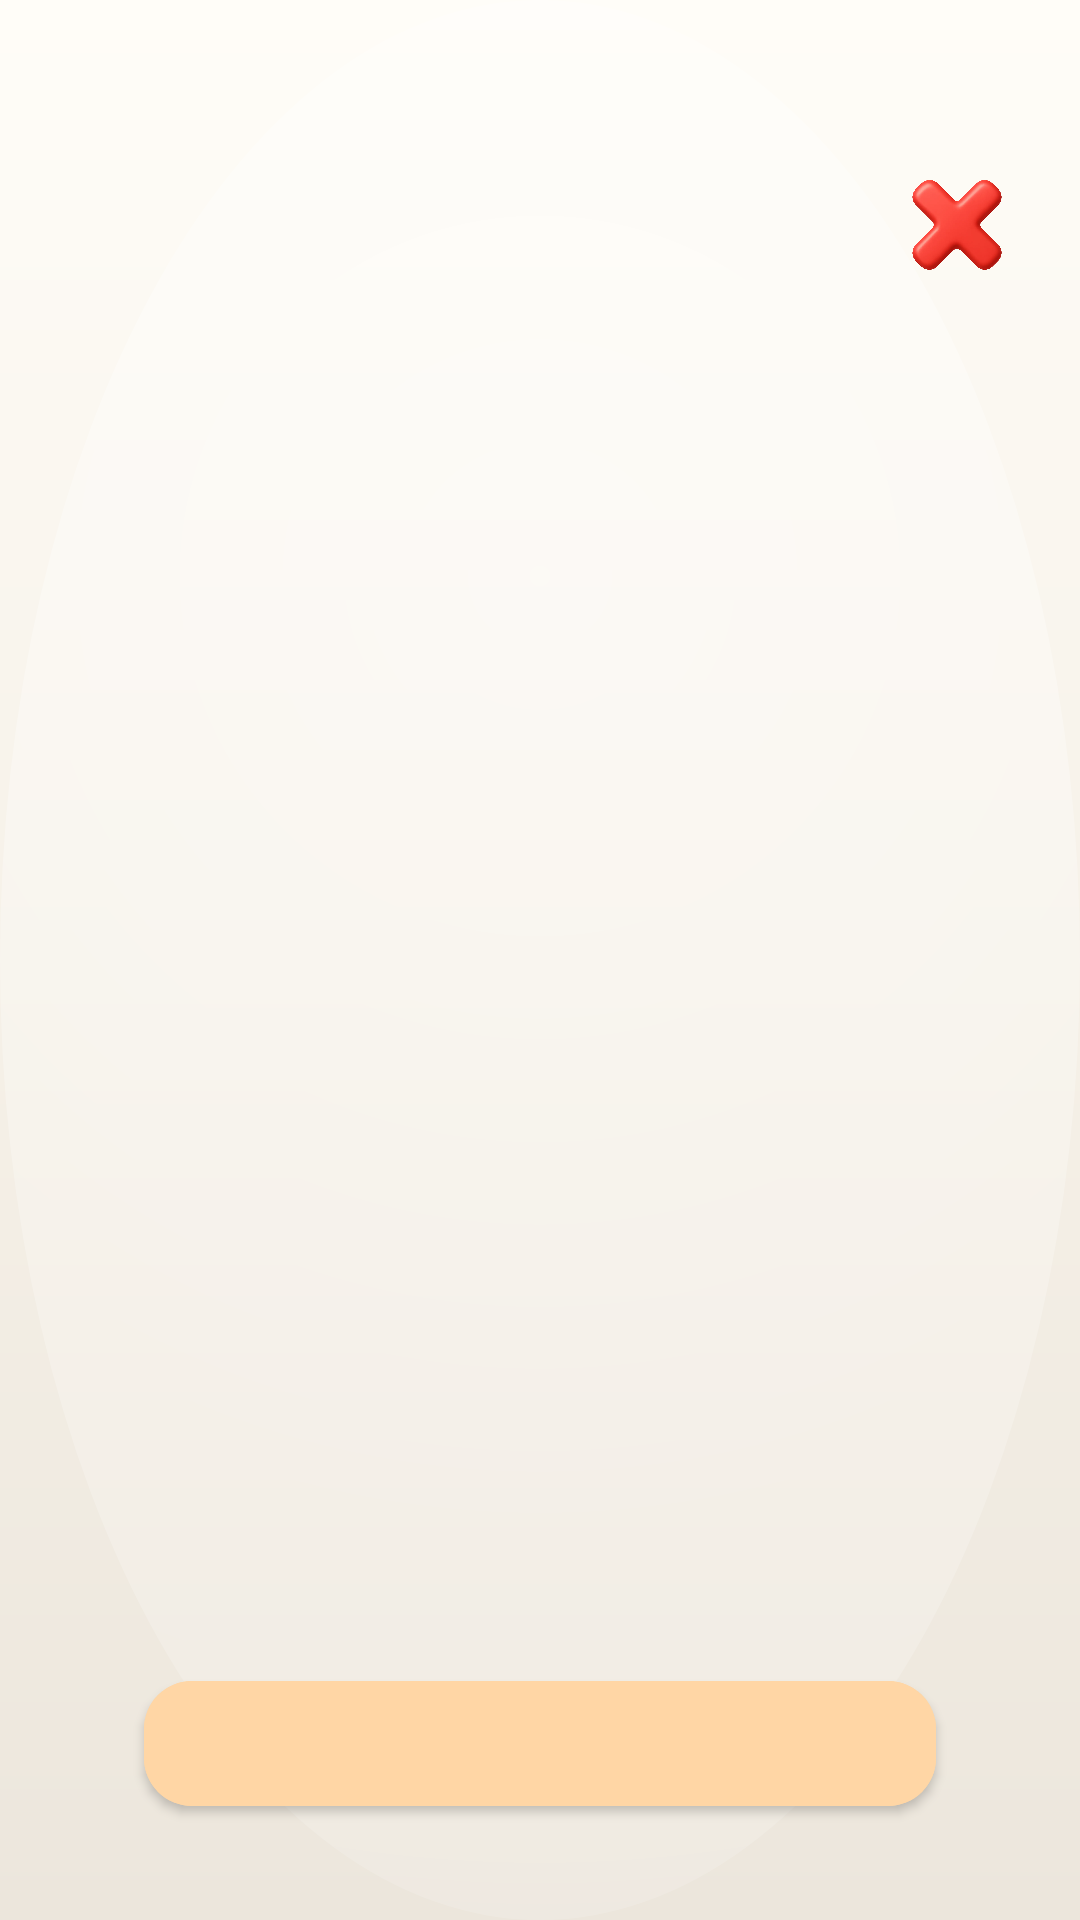

Icons on this 1080w x 1920h Android screen, each with the point to tap as point (x, y):
Close: point (957, 225)
